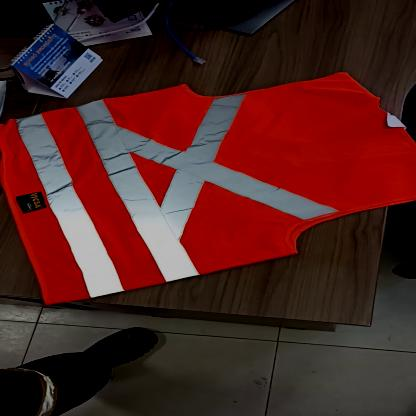colete: (1, 68, 416, 306)
